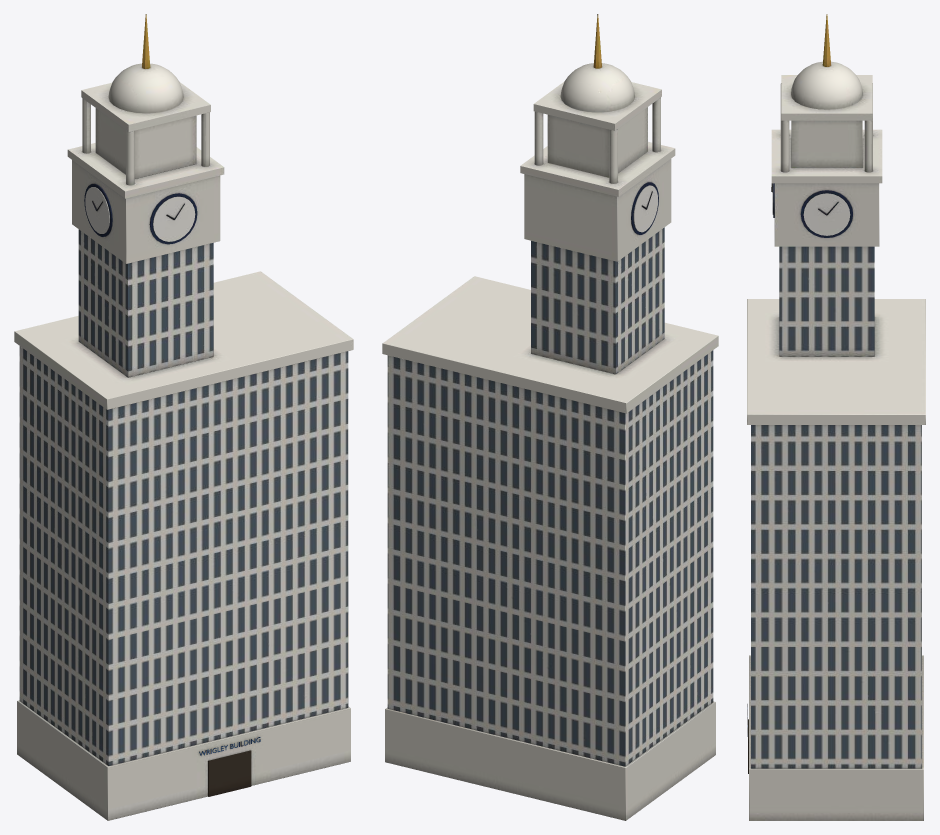
Rendered from wrigley_building.glb.
The picture shows the model from 3 angles, left to right: view 1: azimuth 30°, elevation 25°; view 2: azimuth 150°, elevation 25°; view 3: azimuth 270°, elevation 25°; orthographic projection. The views are drawn at different scales.
Visible parts, largest first — view 1: wrigley_building; view 2: wrigley_building; view 3: wrigley_building.
Boxes of the visible parts, <box> form: wrigley_building: <box>14,14,353,820</box>; wrigley_building: <box>382,14,718,820</box>; wrigley_building: <box>747,14,925,820</box>.
Bounding box in the file's own units: 28.8 × 84.6 × 18.8.
Materials: 1 (1 with a texture image).
